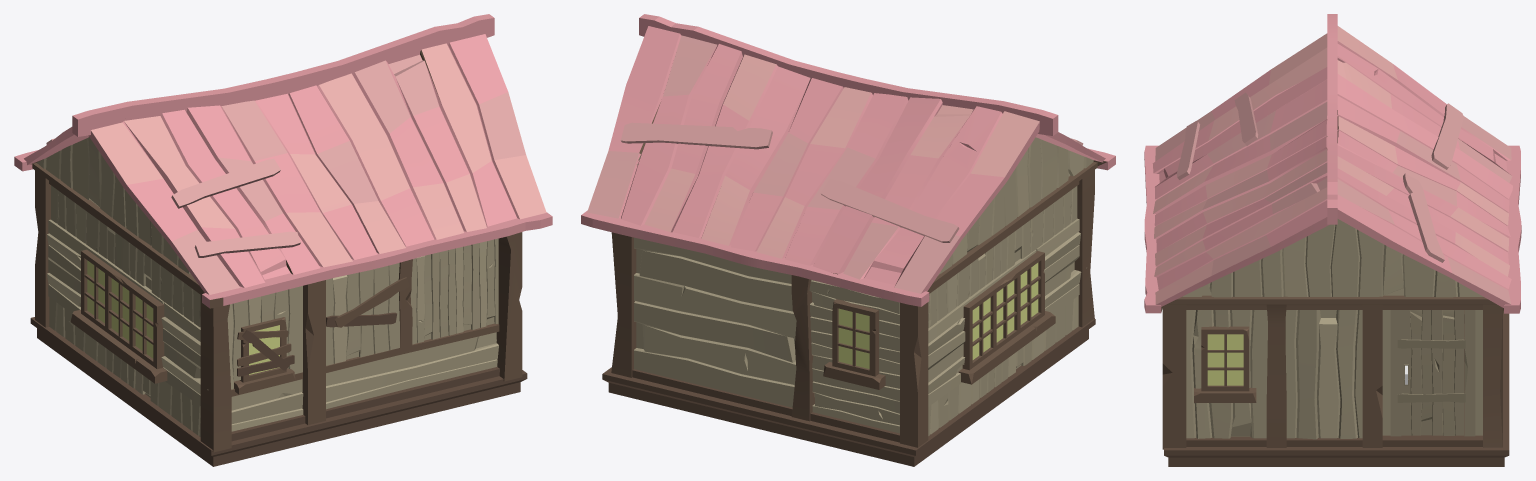
File: redcoloringhouse1.fbx
3 views of the same model, side by side, from view 1: azimuth 30°, elevation 25°; view 2: azimuth 150°, elevation 25°; view 3: azimuth 270°, elevation 25° (orthographic). The views are drawn at different scales.
Visible parts, largest first — view 1: House_1_Roof.011, House.009; view 2: House_1_Roof.011, House.009; view 3: House_1_Roof.011, House.009.
Part boxes in pixels (left/top/right/bottom): House_1_Roof.011: left=14, top=14, right=552, bottom=308; House.009: left=30, top=170, right=527, bottom=466; House_1_Roof.011: left=581, top=14, right=1115, bottom=306; House.009: left=602, top=170, right=1095, bottom=466; House_1_Roof.011: left=1144, top=14, right=1521, bottom=313; House.009: left=1162, top=304, right=1509, bottom=466.
Bounding box in the file's own units: 573 × 395 × 471.
